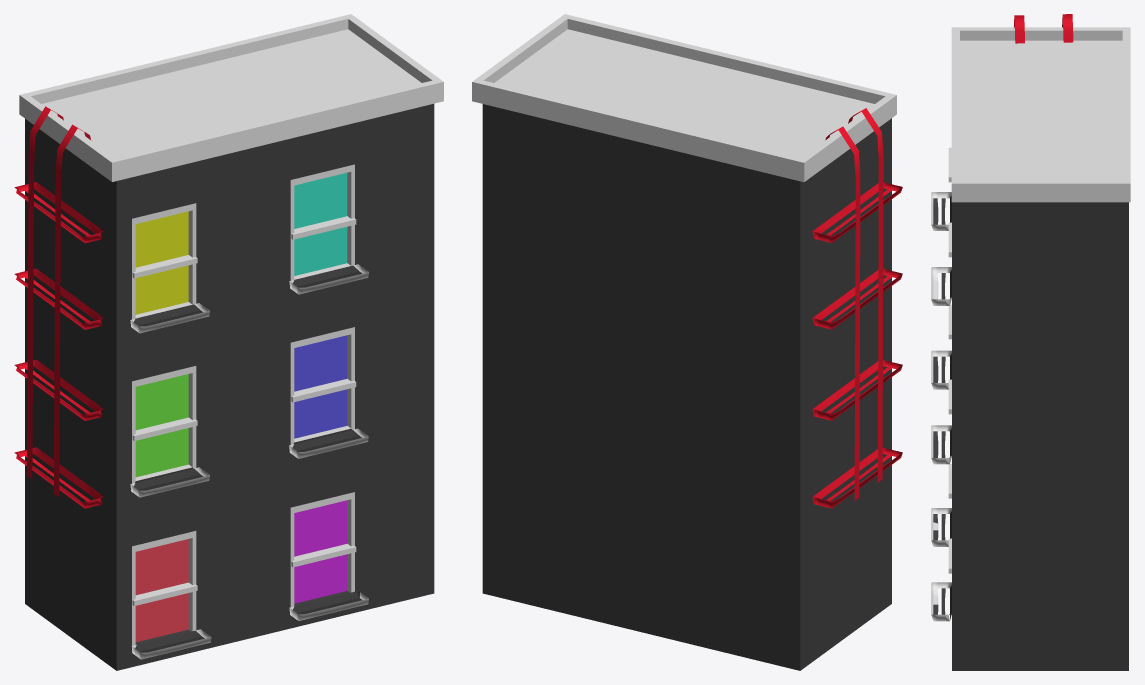
File: Apartment01_kw.fbx
3 views of the same model, side by side, from view 1: azimuth 30°, elevation 25°; view 2: azimuth 150°, elevation 25°; view 3: azimuth 270°, elevation 25° (orthographic). The views are drawn at different scales.
Parts seen in each view (by area): view 1: apartment01; view 2: apartment01; view 3: apartment01.
Part boxes in pixels (<box>): apartment01: <box>14,14,443,670</box>; apartment01: <box>472,14,902,670</box>; apartment01: <box>931,14,1130,670</box>.
Size of the model in its own units: 7.96 by 11.22 by 4.03.
